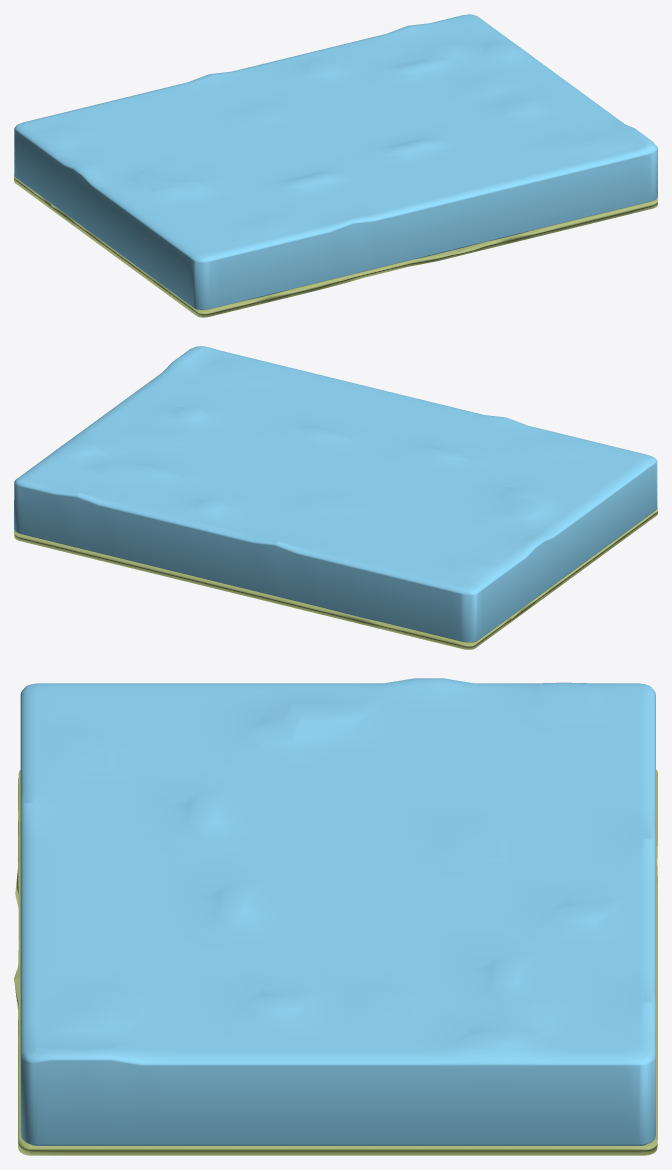
Rendered from floor.glb.
3 renders of one model, top to bottom at view 1: azimuth 30°, elevation 25°; view 2: azimuth 150°, elevation 25°; view 3: azimuth 270°, elevation 25°, orthographic. The views are drawn at different scales.
Visible parts, largest first — view 1: Plane.010, Cube.013; view 2: Plane.010, Cube.013; view 3: Plane.010, Cube.013.
Boxes of the visible parts, box(x1,y1,x2,y2) form: Plane.010: box(14, 14, 657, 309); Cube.013: box(14, 174, 657, 317); Plane.010: box(14, 346, 657, 642); Cube.013: box(14, 507, 657, 649); Plane.010: box(20, 678, 655, 1145); Cube.013: box(14, 769, 657, 1155).
Bounding box in the file's own units: 26.8 × 3.36 × 19.15.
